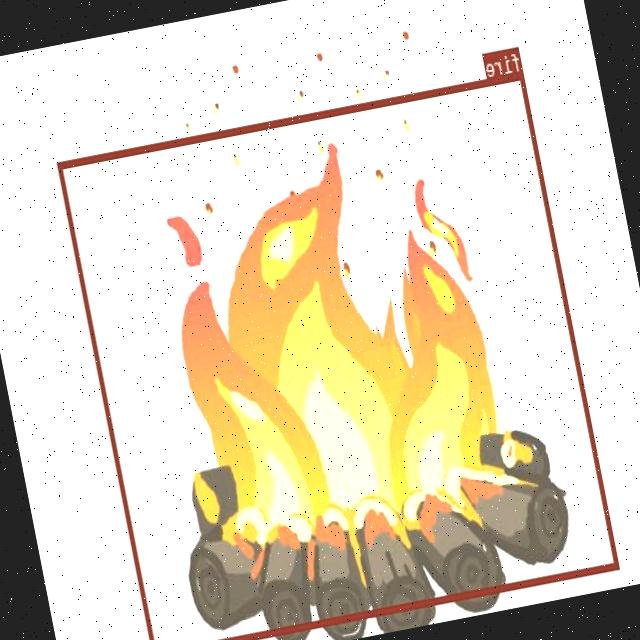fire: (58, 70, 621, 640)
